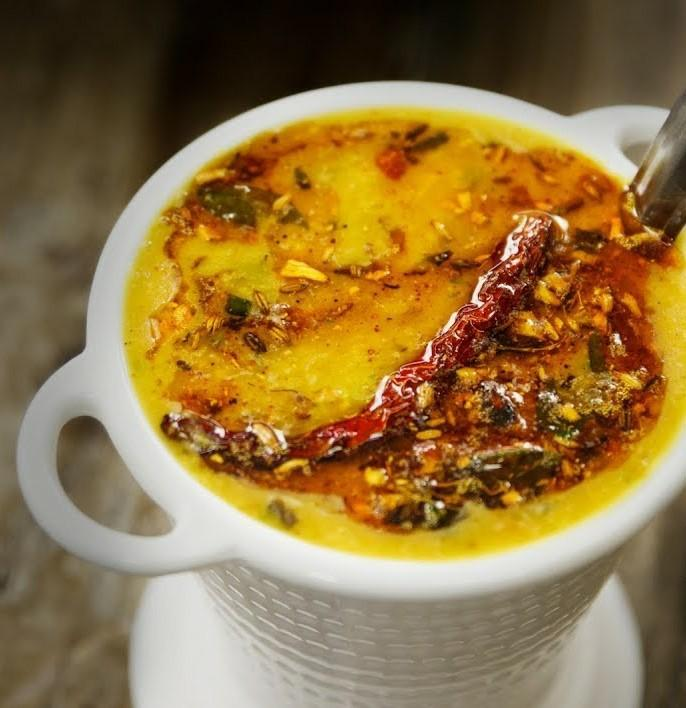Dal: (125, 107, 686, 558)
